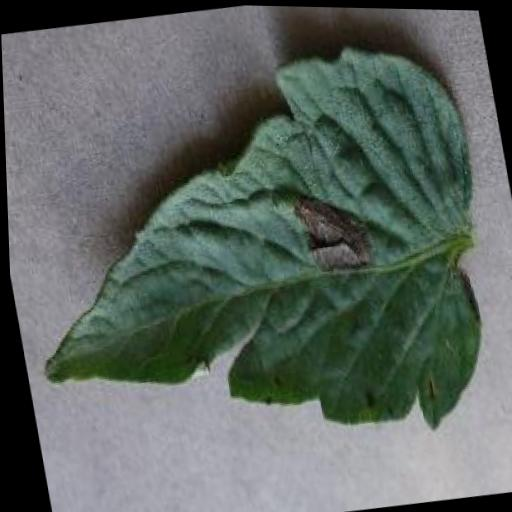Early Blight: (1, 23, 512, 486)
